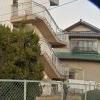stairs: (37, 14, 67, 46), (39, 50, 69, 80)
